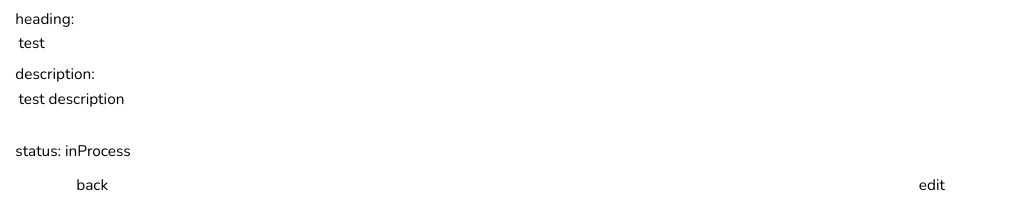
Test: ToDoItemDetails › should handle user events › should change isEditable to false on click cancel
Click the button "edit": coordinates (932, 184) [855,169,1009,200]
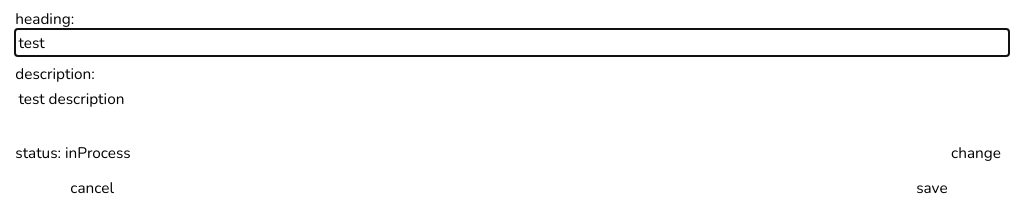
Click the button "cancel": coordinates (92, 187) [15,172,169,203]
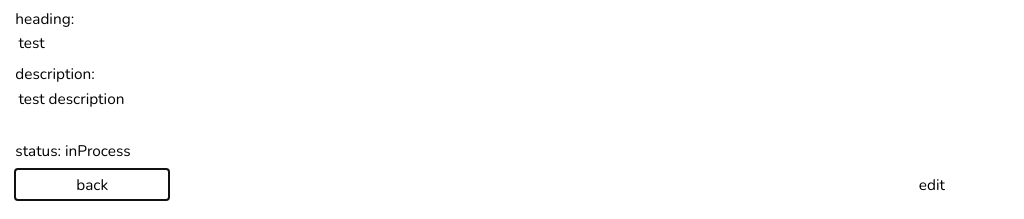
Check: the button "change" is gone
